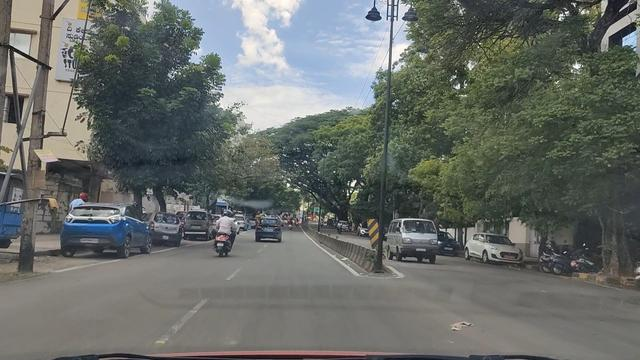LMV: (59, 201, 150, 256)
